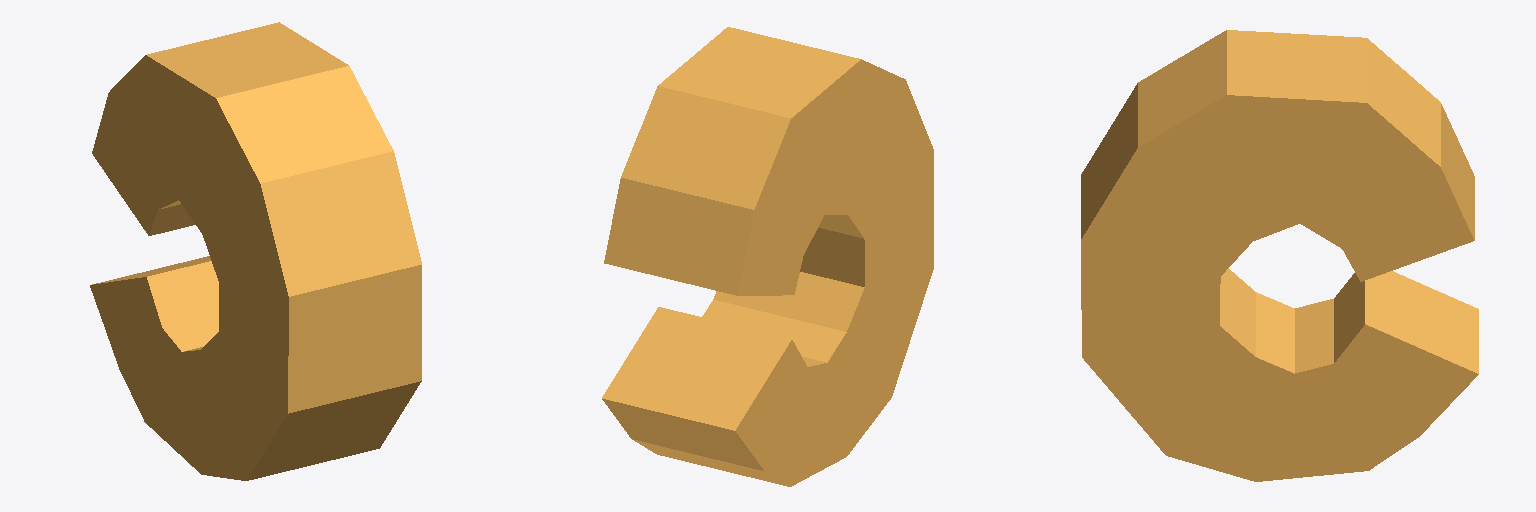
3 views of the same model, side by side, from view 1: azimuth 30°, elevation 25°; view 2: azimuth 150°, elevation 25°; view 3: azimuth 270°, elevation 25° (orthographic).
Visible parts, largest first — view 1: Cube.005; view 2: Cube.005; view 3: Cube.005.
Boxes of the visible parts, <box> form: Cube.005: <box>90,22,421,480</box>; Cube.005: <box>602,27,933,486</box>; Cube.005: <box>1081,30,1478,481</box>.
Bounding box in the file's own units: 1.77 × 4.9 × 4.57.
1 materials, 1 textured.